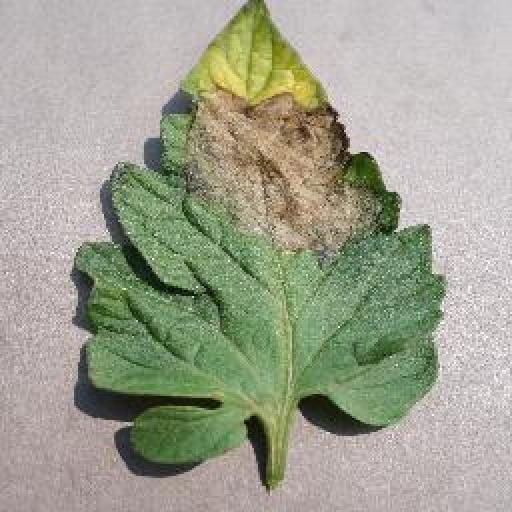Late Blight: (72, 0, 448, 460)
